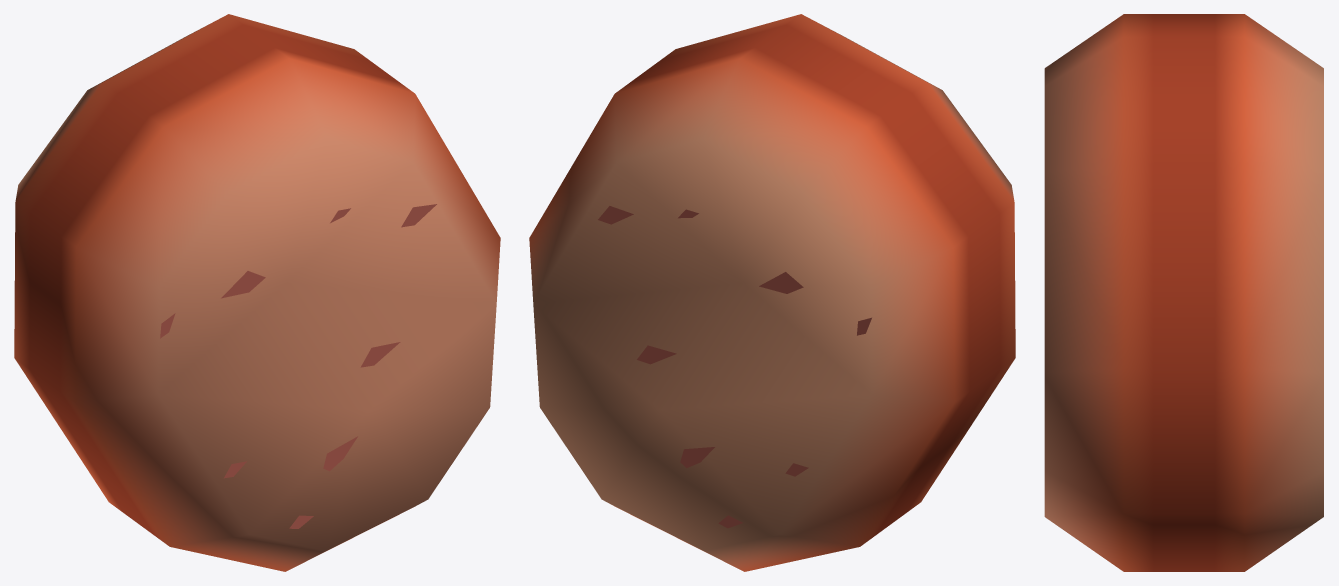
File: SM_Potata.fbx
3 views of the same model, side by side, from view 1: azimuth 30°, elevation 25°; view 2: azimuth 150°, elevation 25°; view 3: azimuth 270°, elevation 25° (orthographic).
Visible parts, largest first — view 1: SM_Potata; view 2: SM_Potata; view 3: SM_Potata.
Part boxes in pixels (<box>): SM_Potata: <box>14,14,500,571</box>; SM_Potata: <box>529,14,1015,571</box>; SM_Potata: <box>1044,14,1323,571</box>.
Bounding box in the file's own units: 174 × 200 × 100.
